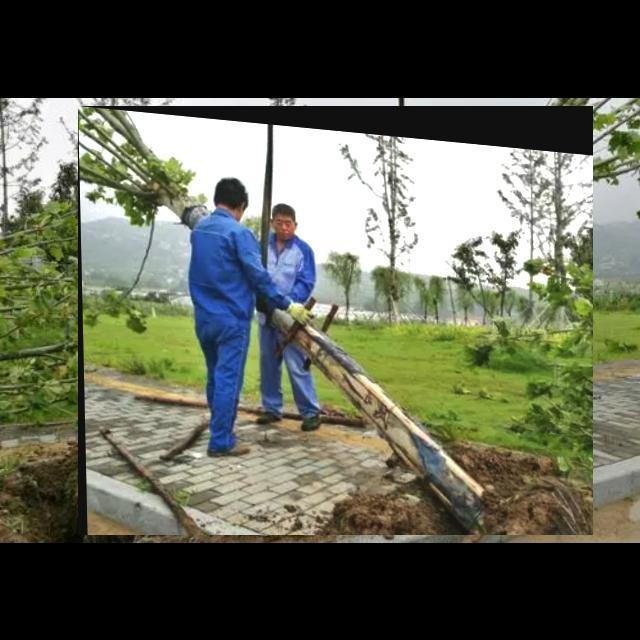fallen_tree: (78, 106, 594, 536)
